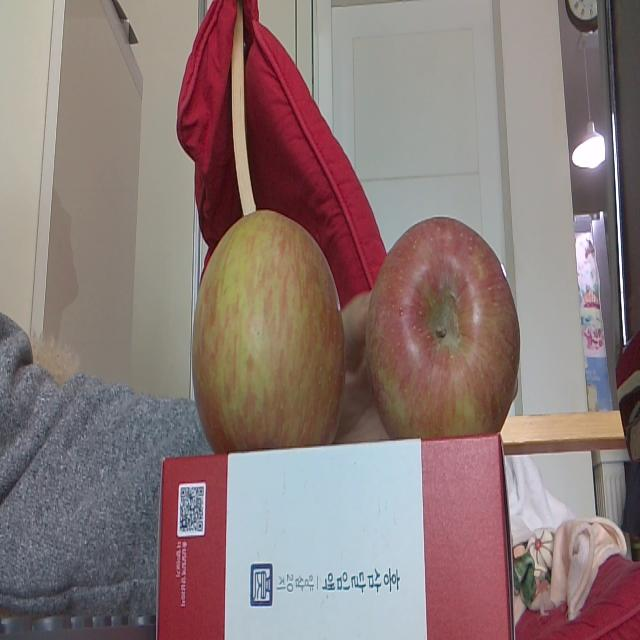apple: (195, 212, 351, 447), (368, 215, 522, 439)
